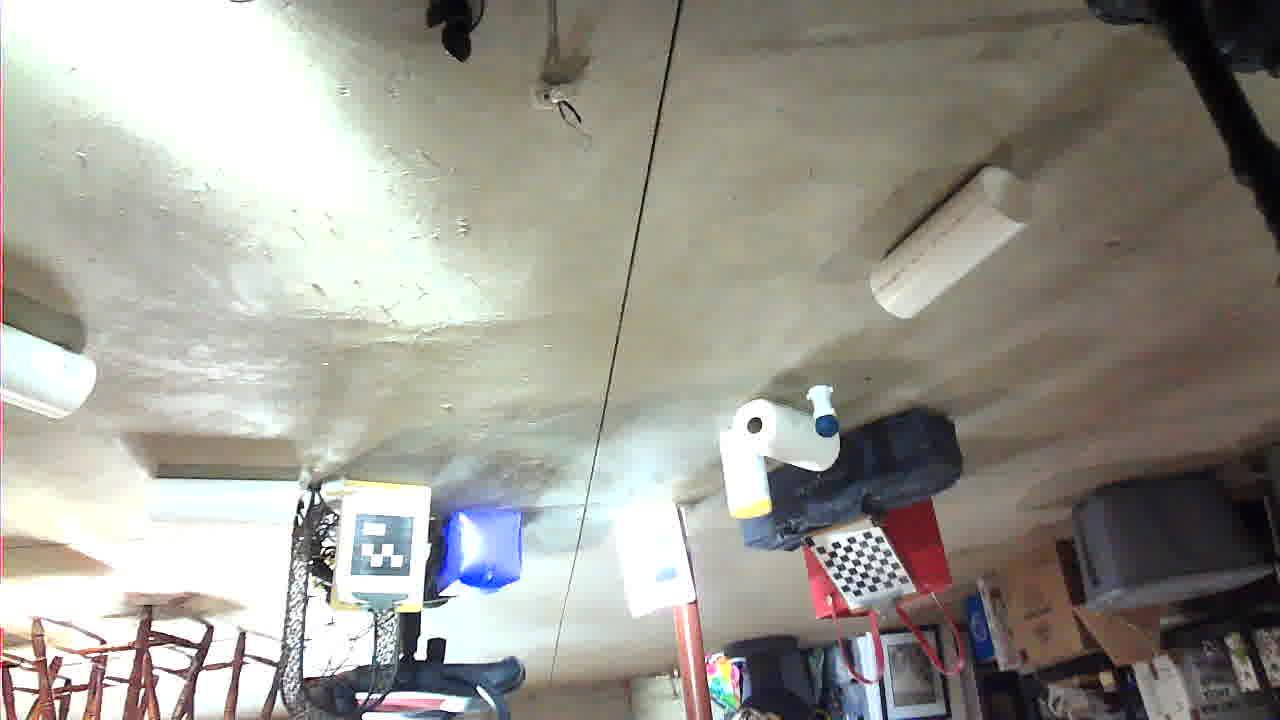coral: (247, 400, 409, 558), (983, 193, 1133, 246), (1186, 306, 1280, 388)
